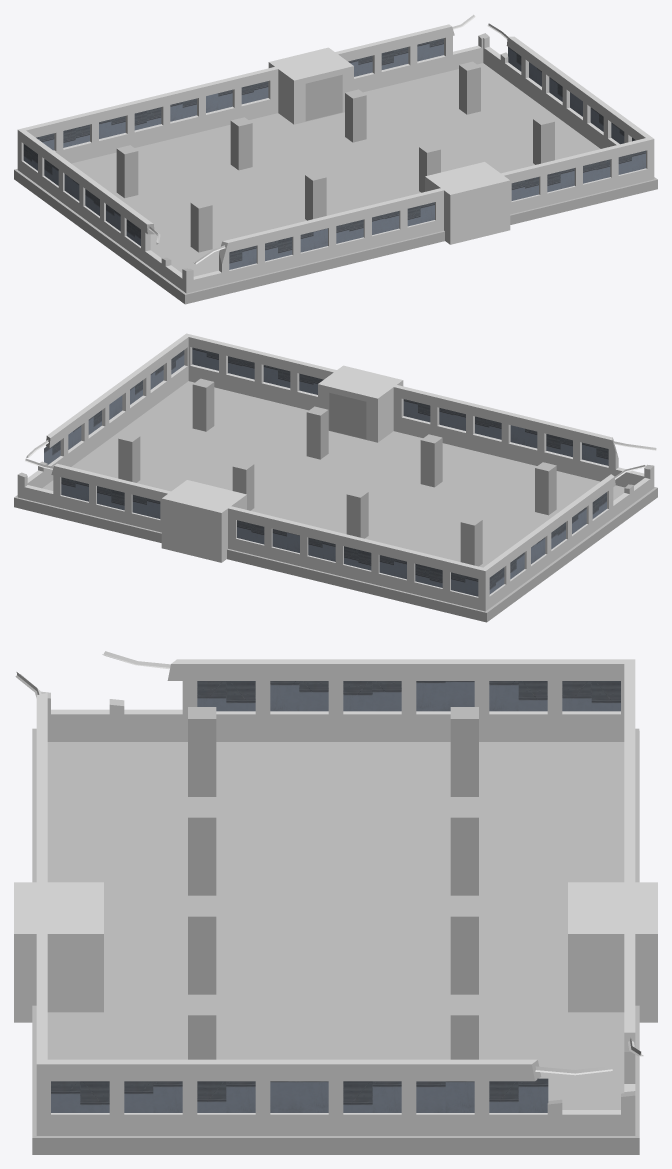
The model's file is Ruin3C_LOD1.fbx.
3 renders of one model, top to bottom at view 1: azimuth 30°, elevation 25°; view 2: azimuth 150°, elevation 25°; view 3: azimuth 270°, elevation 25°, orthographic. The views are drawn at different scales.
Visible parts, largest first — view 1: polySurface1939; view 2: polySurface1939; view 3: polySurface1939.
Boxes of the visible parts, bbox=[...] form: polySurface1939: bbox=[14, 14, 657, 304]; polySurface1939: bbox=[14, 333, 657, 622]; polySurface1939: bbox=[14, 651, 657, 1154].
Size of the model in its own units: 33.71 by 3.52 by 22.04.
